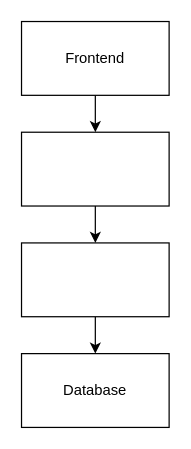
This 191x449 diagram has some shape labels left out. The centre of each missing label's shape, as x and y in pixels:
"API" belongs at point (94, 168).
"Users & Tasks" belongs at point (94, 279).
